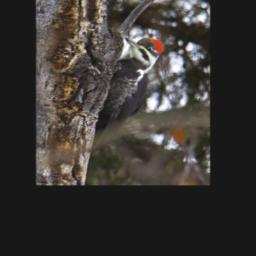Woodpecker: (96, 35, 167, 137)
